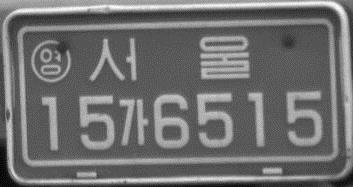1: (243, 88, 270, 150), (38, 93, 63, 154)
5: (283, 88, 323, 148), (77, 93, 117, 152), (195, 90, 235, 149)
6: (151, 92, 191, 149)
가: (116, 97, 151, 148)
서울_D: (87, 32, 251, 85)
영: (29, 38, 71, 84)
